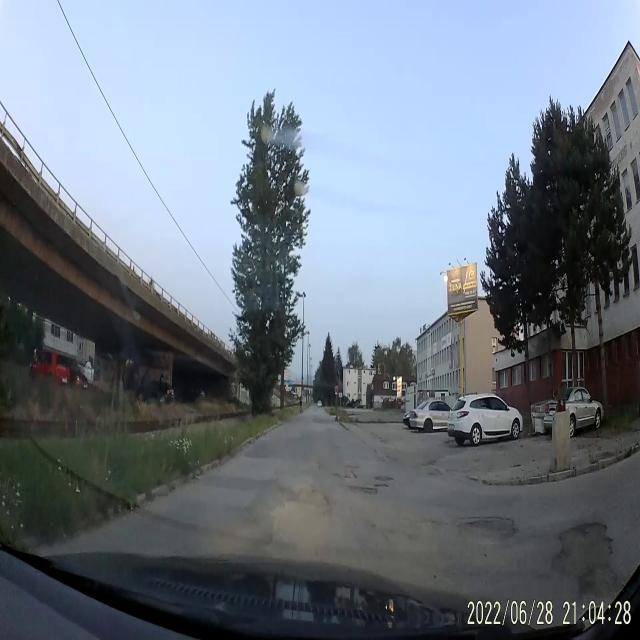Manhole: (372, 472, 394, 486)
Pothole: (556, 512, 615, 596), (458, 510, 514, 542), (344, 483, 381, 498)
